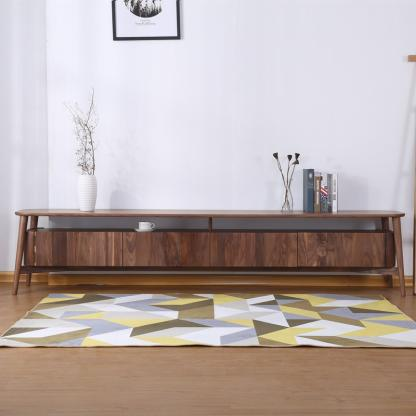Carpet: (0, 293, 416, 348)
TV stand: (10, 205, 409, 291)
Wooden floor: (0, 348, 416, 416)
